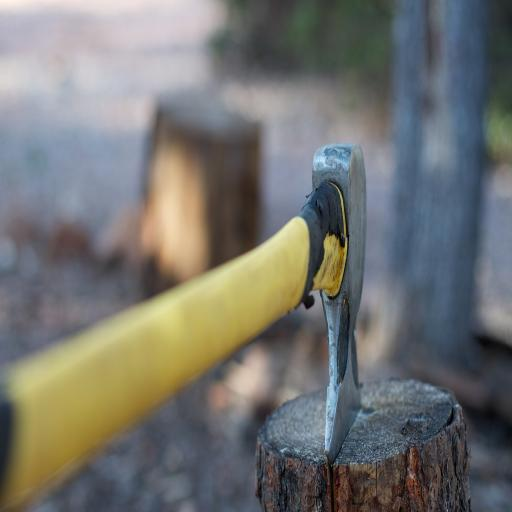Axe: (0, 140, 364, 512)
